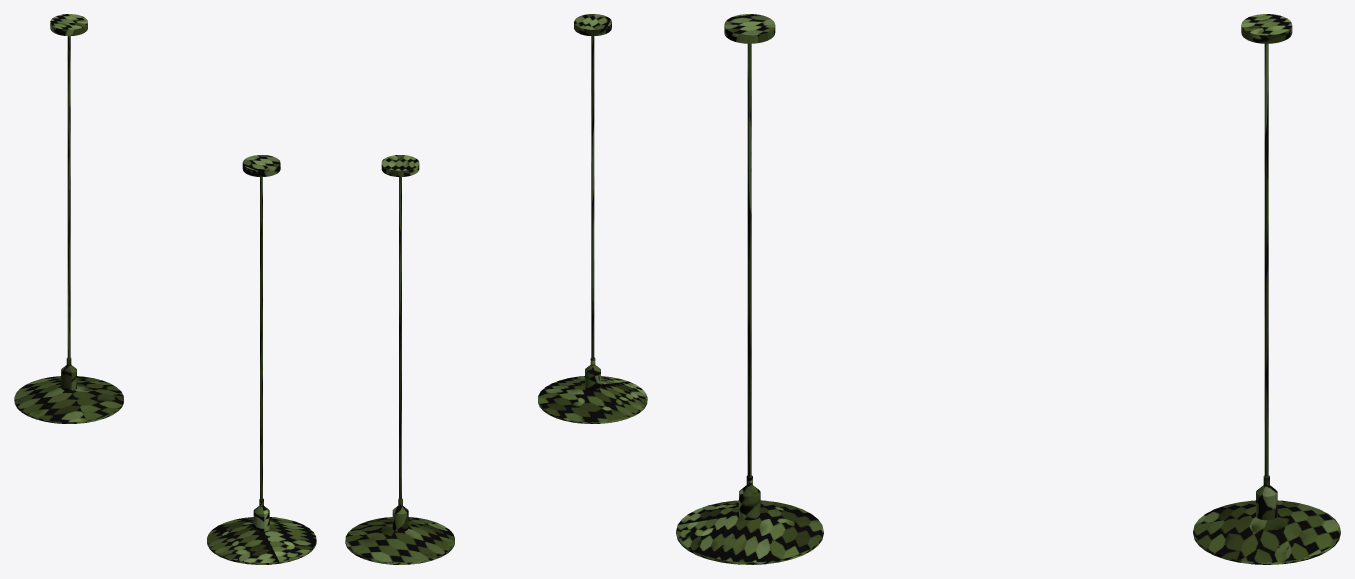
File: modern_scandinavian_kitchen_island_9.obj
3 renders of one model, left to right at view 1: azimuth 30°, elevation 25°; view 2: azimuth 150°, elevation 25°; view 3: azimuth 270°, elevation 25°, orthographic. The views are drawn at different scales.
Size of the model in its own units: 0.417 by 1.65 by 1.88.
